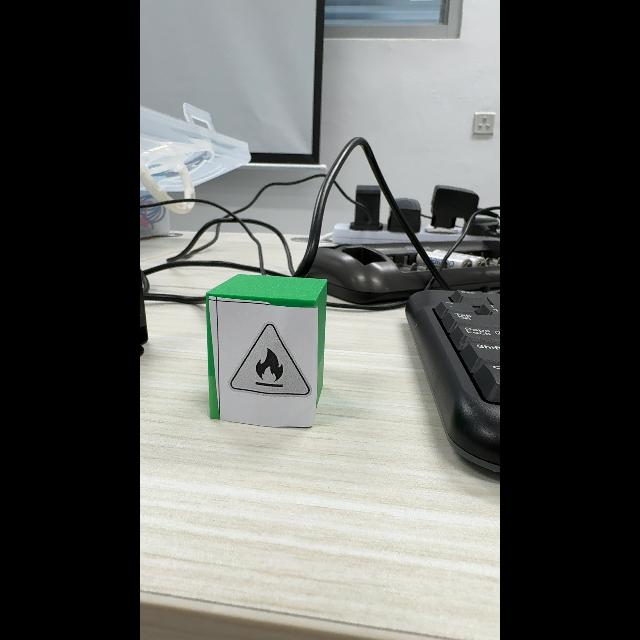Fire: (230, 323, 311, 396)
